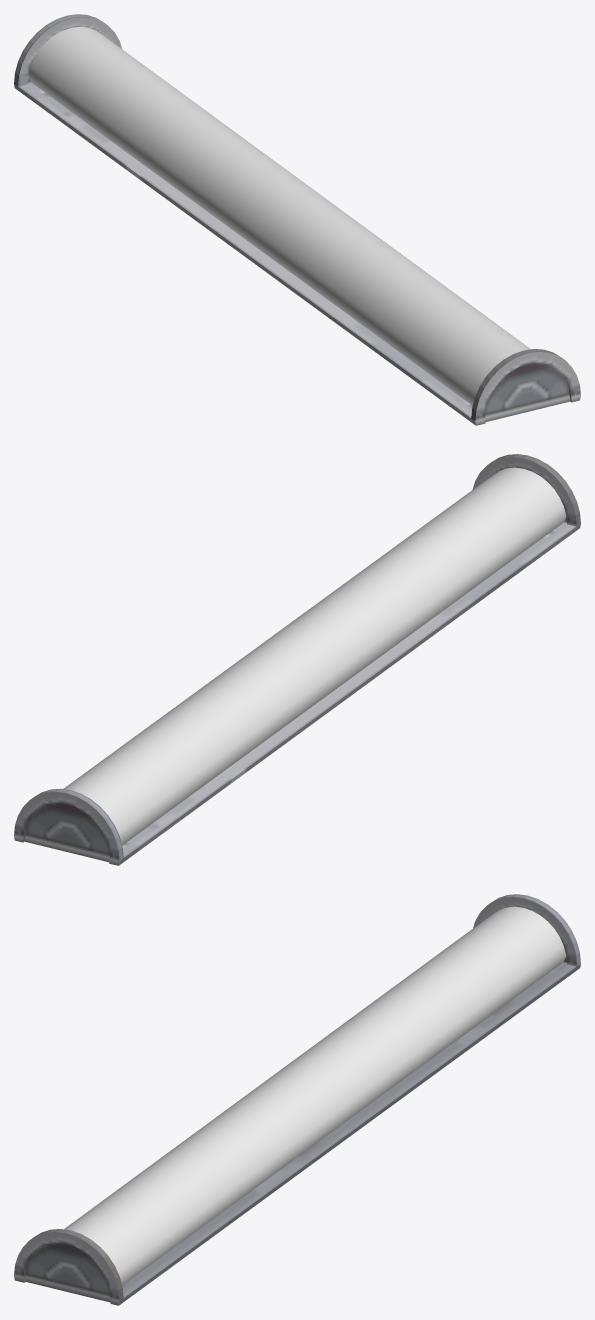
File: light_fixture.fbx
3 renders of one model, top to bottom at view 1: azimuth 30°, elevation 25°; view 2: azimuth 150°, elevation 25°; view 3: azimuth 330°, elevation 25°, orthographic.
Visible parts, largest first — view 1: Cylinder.002, Cylinder.001; view 2: Cylinder.002, Cylinder.001; view 3: Cylinder.002, Cylinder.001.
Part boxes in pixels (box(x1,y1,x2,y2)): Cylinder.002: box(28, 27, 530, 405); Cylinder.001: box(14, 14, 580, 425); Cylinder.002: box(63, 467, 566, 845); Cylinder.001: box(14, 454, 580, 865); Cylinder.002: box(64, 906, 566, 1285); Cylinder.001: box(14, 894, 580, 1305).
Size of the model in its own units: 200 by 108 by 1514.
